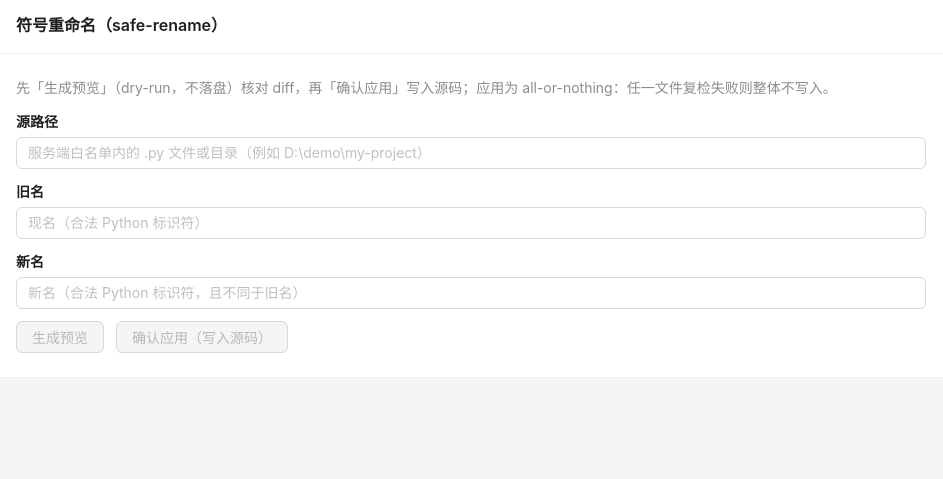
Test case: RenameTool › renameSymbol 抛普通 Error（网络失败）：展示兜底文案，不崩页面
Type "D:\\demo\\my-project" into the field with placeholder "服务端白名单内的 .py 文件或目录（例如 D:\\demo\\my-project）".
click(463, 153); type("D:\\demo\\my-project")  # box [28,142,898,164]
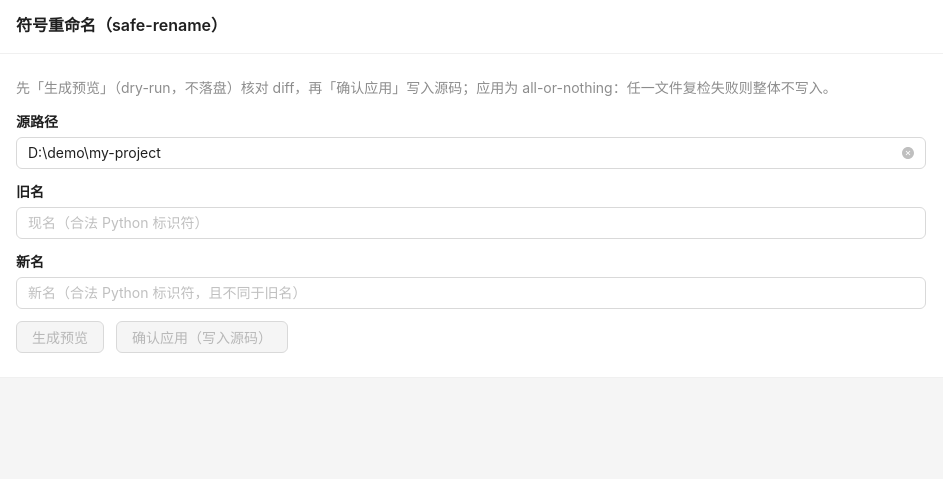
Type "old_name" into the field with placeholder "现名（合法 Python 标识符）".
click(463, 223); type("old_name")  # box [28,212,898,234]
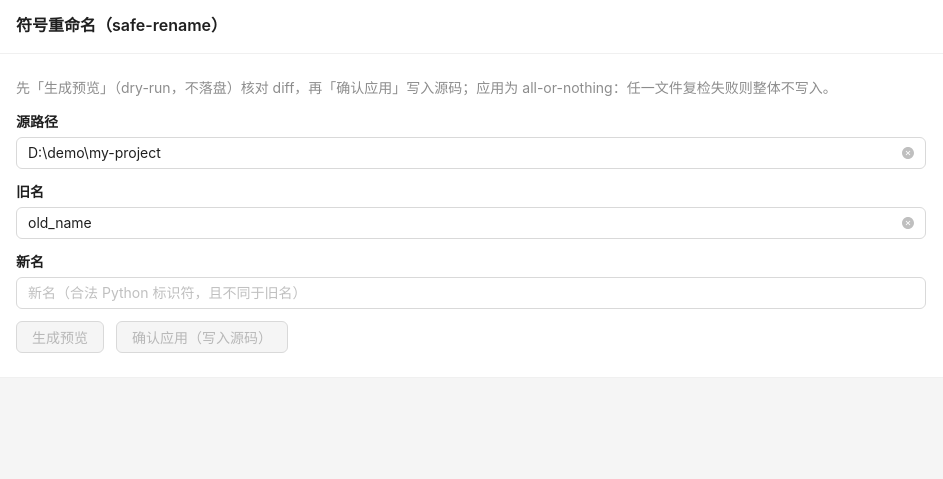
Type "new_name" into the field with placeholder "新名（合法 Python 标识符，且不同于旧名）".
click(463, 293); type("new_name")  # box [28,282,898,304]
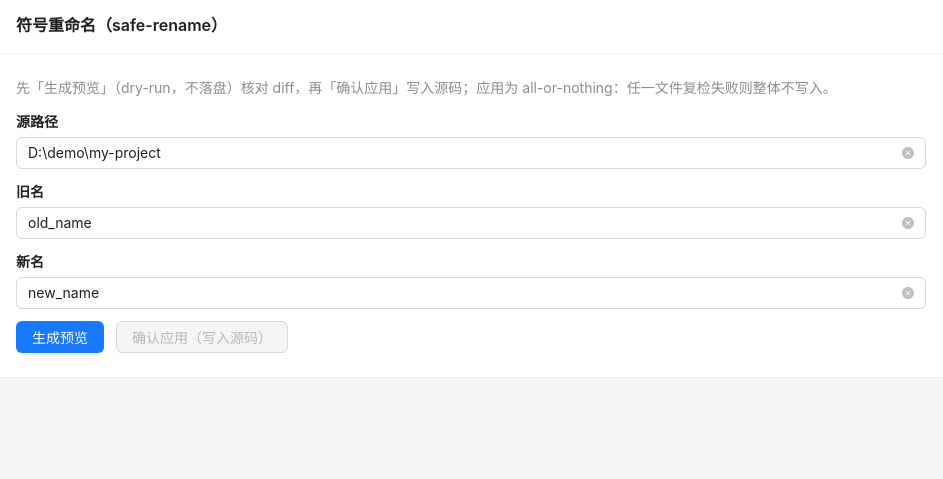
Click the button "生成预览".
click(60, 337)  # box [16,321,104,353]
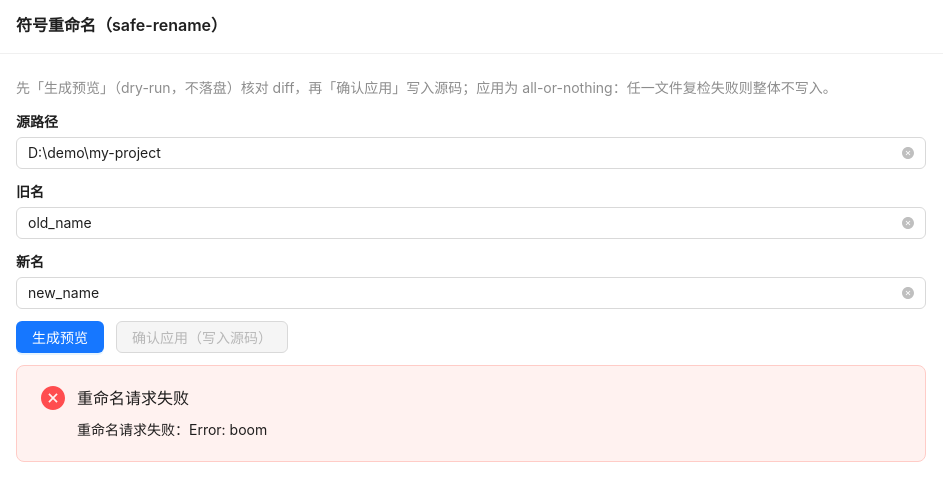
Expected: the text "重命名请求失败：Error: boom" is shown, [77,421,267,438]
